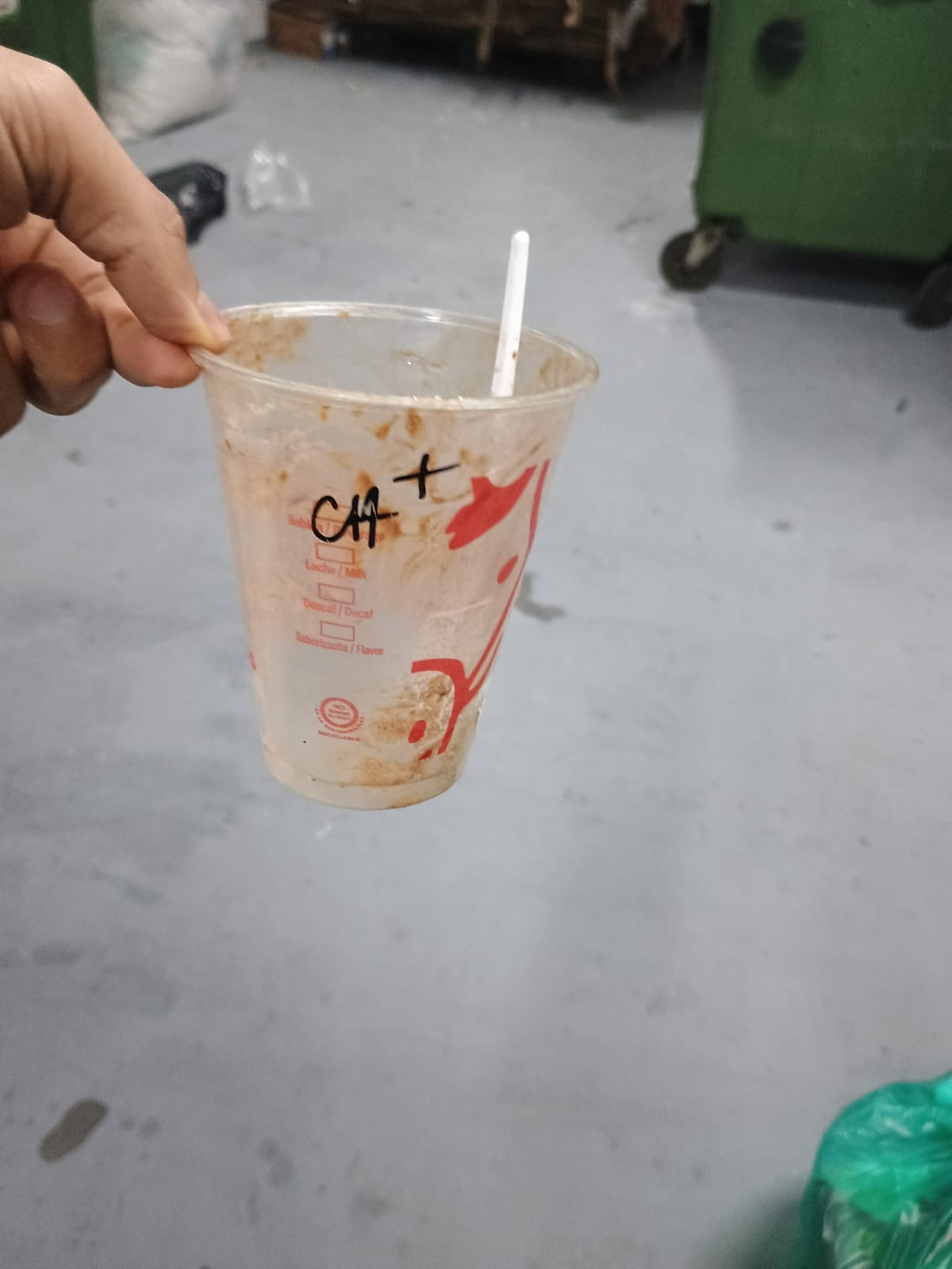Plastico: (182, 299, 604, 812)
